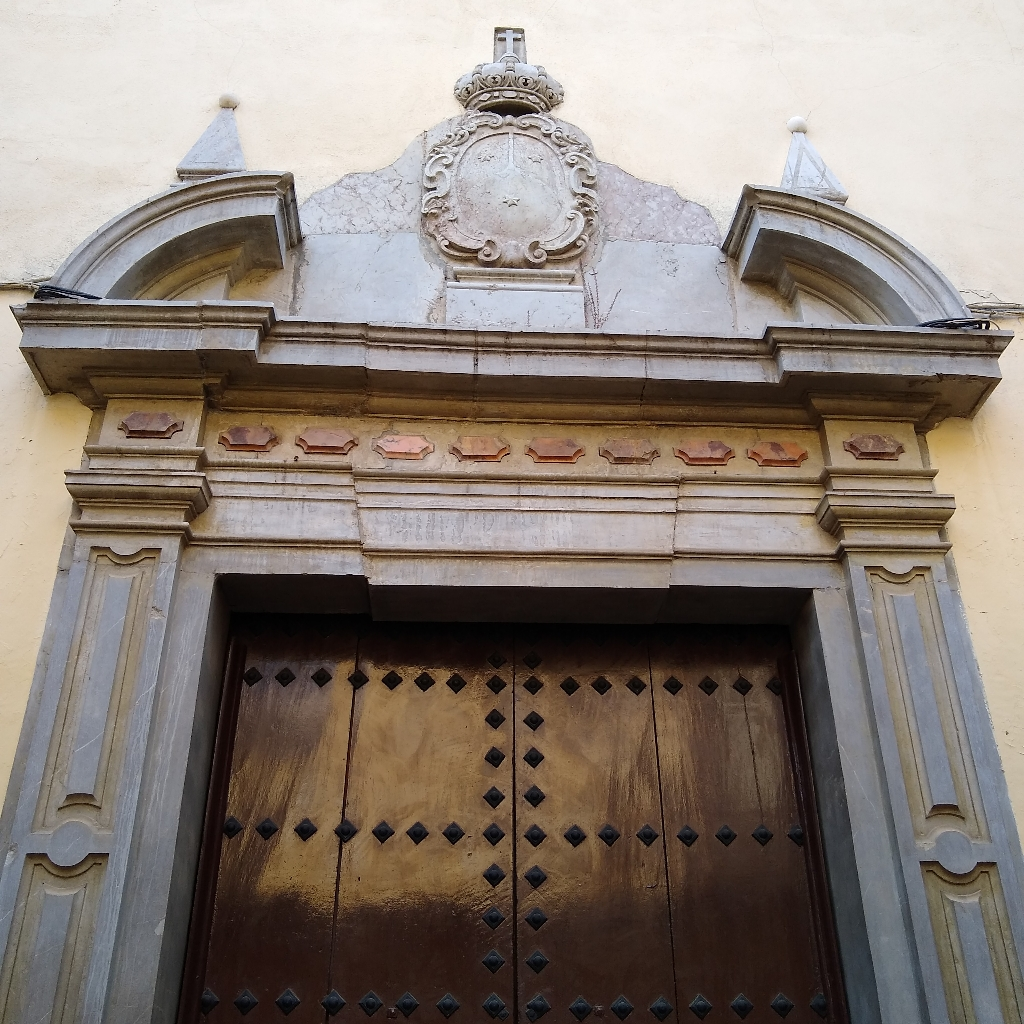fronton-partido: (12, 165, 1009, 386)
vano-adintelado: (105, 525, 907, 1024)
